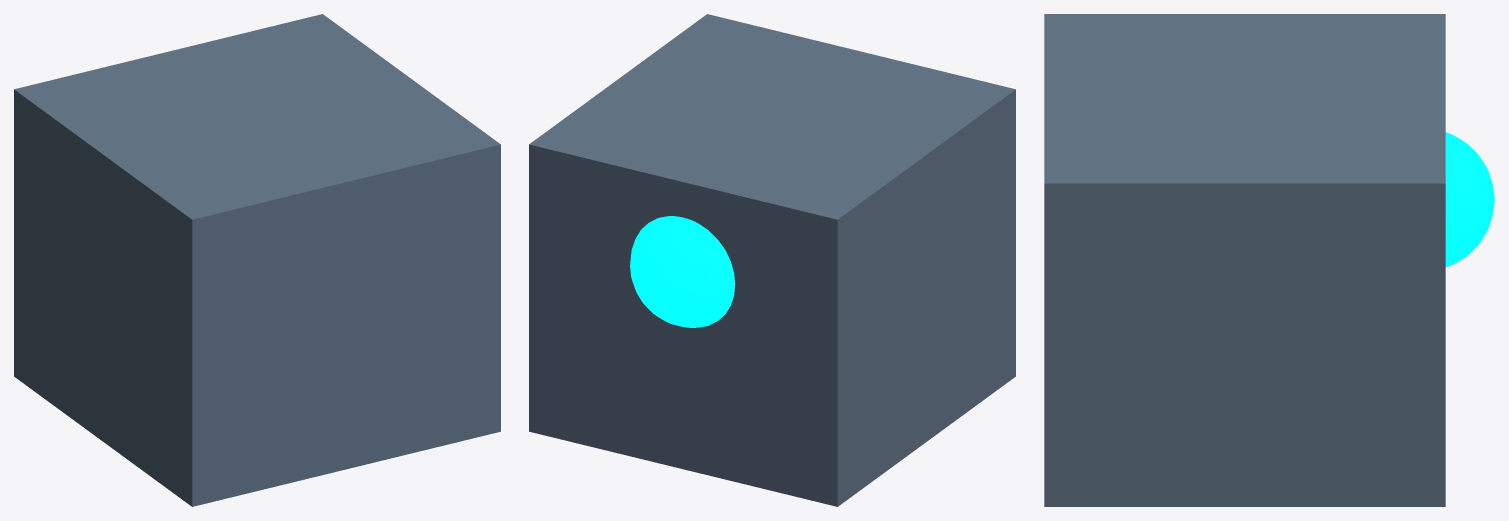
File: bldg_auditor.glb
3 views of the same model, side by side, from view 1: azimuth 30°, elevation 25°; view 2: azimuth 150°, elevation 25°; view 3: azimuth 270°, elevation 25° (orthographic). The views are drawn at different scales.
Visible parts, largest first — view 1: Body; view 2: Body, eye; view 3: Body, eye.
Part boxes in pixels (x1,y1,x2,y2): Body: (14,14,500,506); Body: (529,14,1015,506); eye: (630,216,735,327); Body: (1044,14,1445,506); eye: (1445,132,1494,267).
Bounding box in the file's own units: 0.9 × 0.8 × 1.01.
